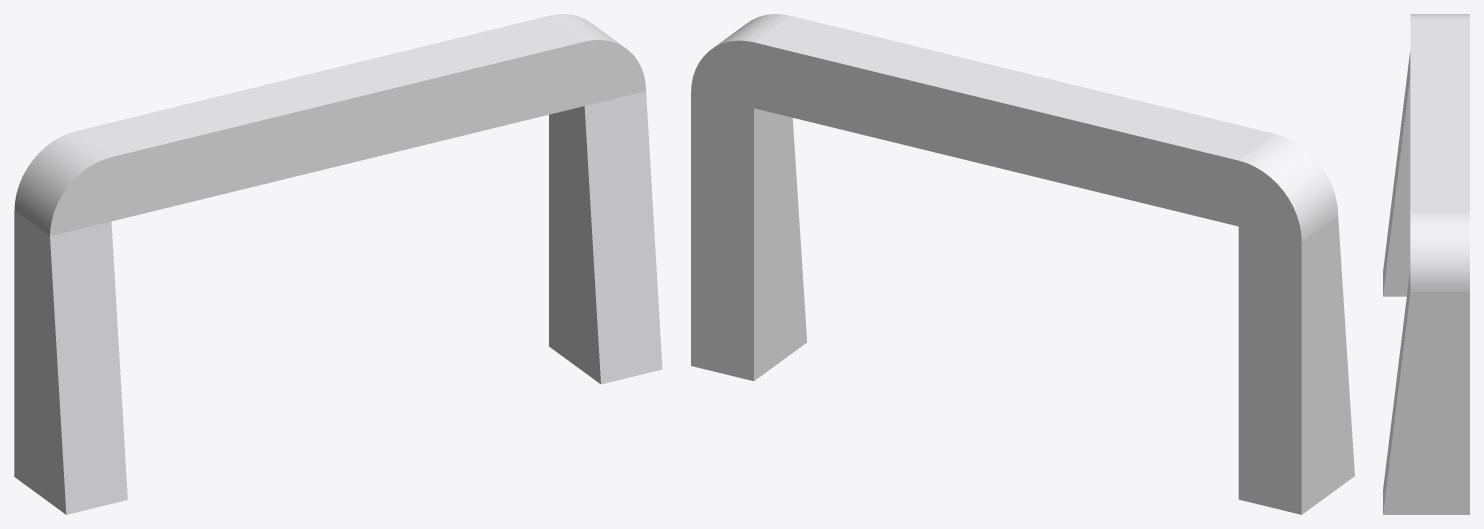
The model's file is overhead.glb.
3 renders of one model, left to right at view 1: azimuth 30°, elevation 25°; view 2: azimuth 150°, elevation 25°; view 3: azimuth 270°, elevation 25°, orthographic. The views are drawn at different scales.
Parts seen in each view (by area): view 1: overhead(Clone); view 2: overhead(Clone); view 3: overhead(Clone).
Part boxes in pixels (x1=…): overhead(Clone): x1=14, y1=14, x2=662, y2=514; overhead(Clone): x1=691, y1=14, x2=1354, y2=514; overhead(Clone): x1=1383, y1=14, x2=1469, y2=514.
Bounding box in the file's own units: 1.26 × 0.6682 × 0.19.
1 material, 1 textured.
